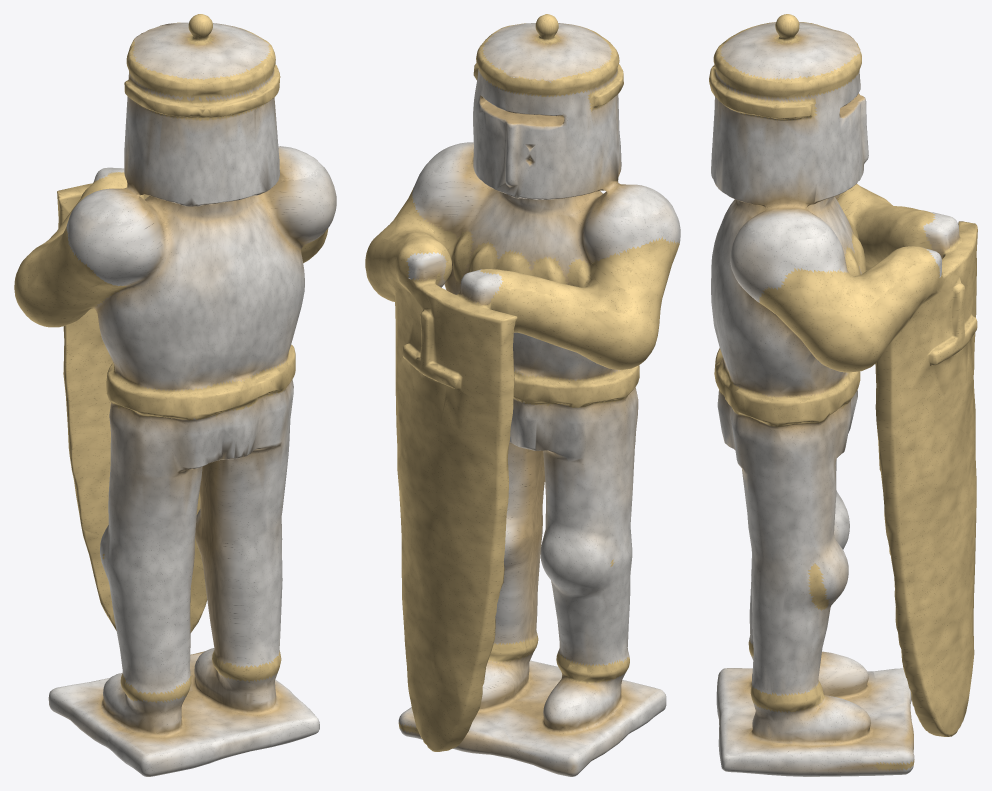
File: knight-white-hd.glb
3 renders of one model, left to right at view 1: azimuth 30°, elevation 25°; view 2: azimuth 150°, elevation 25°; view 3: azimuth 270°, elevation 25°, orthographic. The views are drawn at different scales.
Visible parts, largest first — view 1: Argent Reliquary – White Knight; view 2: Argent Reliquary – White Knight; view 3: Argent Reliquary – White Knight.
Part boxes in pixels (left/top/right/bottom): Argent Reliquary – White Knight: left=14, top=14, right=336, bottom=776; Argent Reliquary – White Knight: left=365, top=14, right=680, bottom=776; Argent Reliquary – White Knight: left=709, top=14, right=977, bottom=776.
Size of the model in its own units: 0.5546 by 1.29 by 0.4365.
2 materials, 2 textured.
